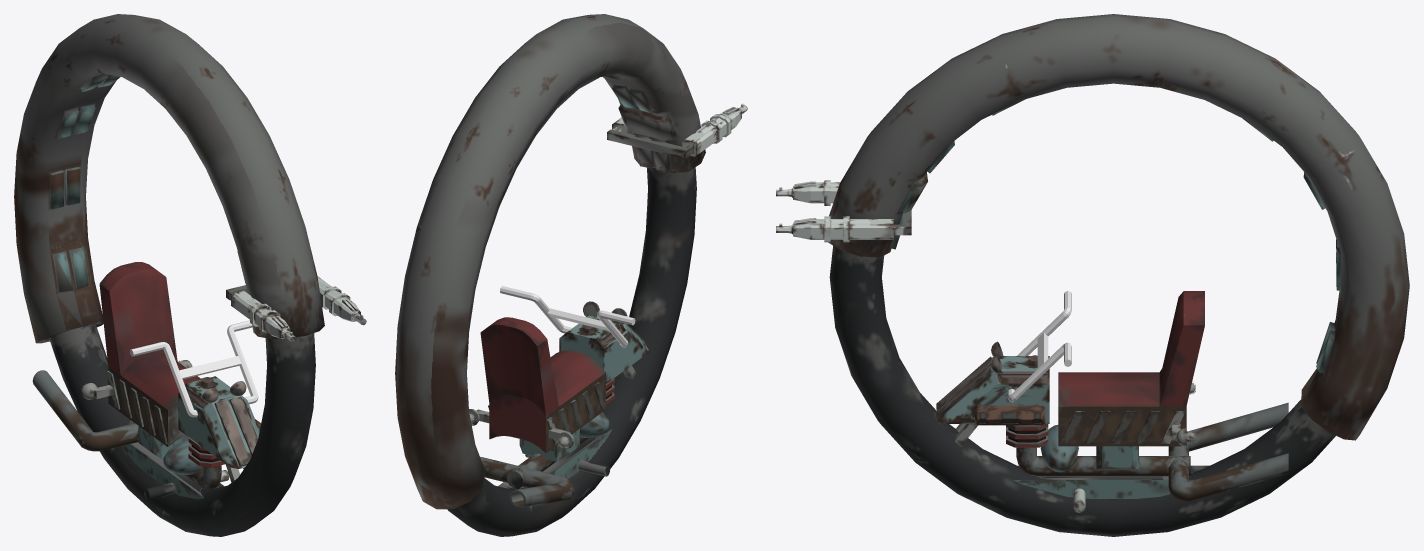
Rendered from MonoWheelv3.fbx.
The picture shows the model from 3 angles, left to right: view 1: azimuth 30°, elevation 25°; view 2: azimuth 150°, elevation 25°; view 3: azimuth 270°, elevation 25°; orthographic projection. The views are drawn at different scales.
Visible parts, largest first — view 1: Cube.008, Cube.007, Cylinder.007; view 2: Cube.008, Cube.007, Cylinder.007; view 3: Cube.008, Cube.007, Cylinder.007.
Part boxes in pixels (x1,y1,x2,y2): Cube.008: (14, 14, 366, 499); Cube.007: (49, 325, 315, 536); Cylinder.007: (129, 320, 258, 417); Cube.008: (395, 14, 747, 509); Cube.007: (447, 167, 696, 536); Cylinder.007: (500, 286, 635, 347); Cube.008: (776, 14, 1409, 512); Cube.007: (829, 245, 1335, 536); Cylinder.007: (1007, 291, 1071, 402).
Bounding box in the file's own units: 106 × 372 × 413.
